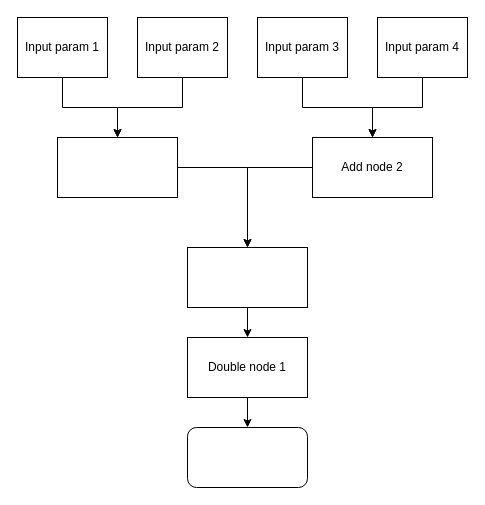
The diagram is 485 pixels wide and 505 high, and some of its shapes have lost their labels. Here are the shapes that lost their labels. From the top down, the centre of each, then its label:
point (117, 167): Add node 1
point (247, 277): Add node 3
point (247, 457): Output node res
